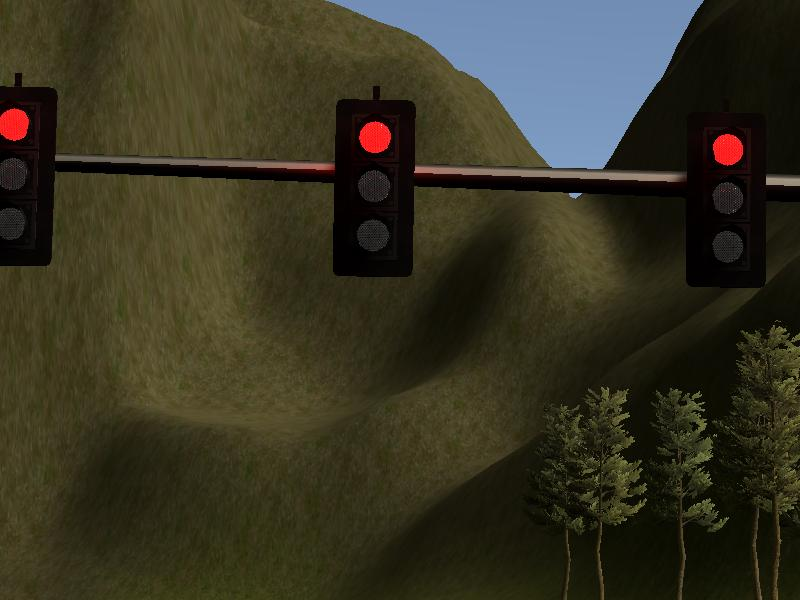red: (333, 97, 416, 278), (685, 111, 767, 289), (1, 84, 54, 266)
